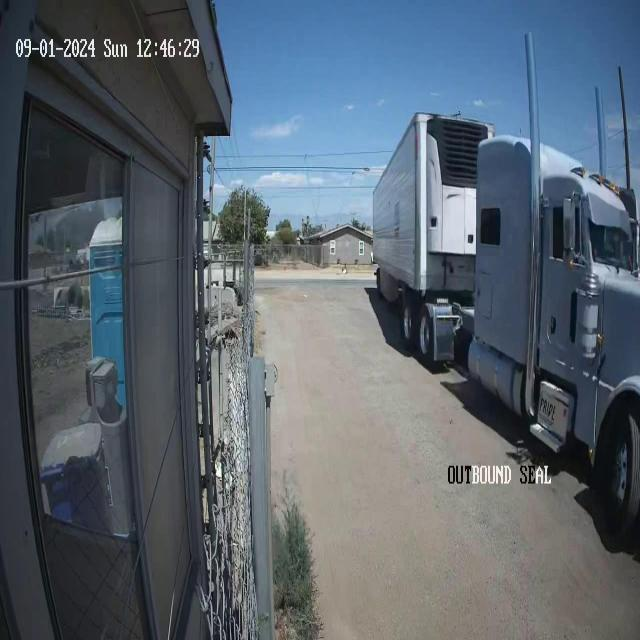TRUCK_IN: (372, 31, 639, 551)
